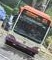bus: (40, 17, 48, 24)
